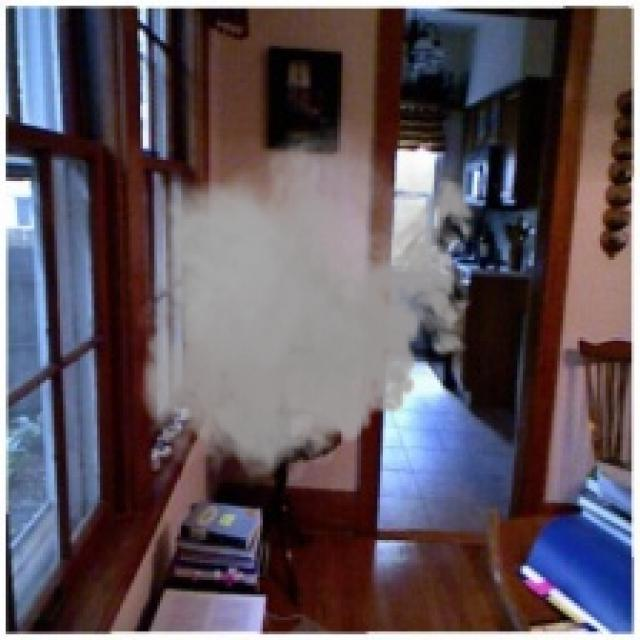Smoke: (128, 117, 486, 492)
